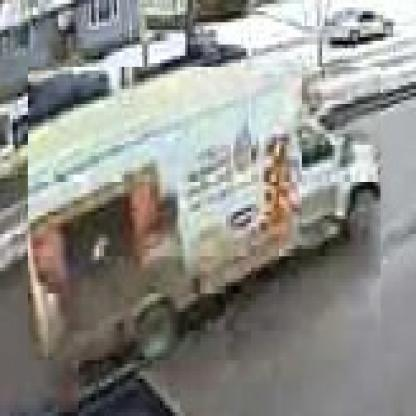truck: (27, 68, 382, 365)
